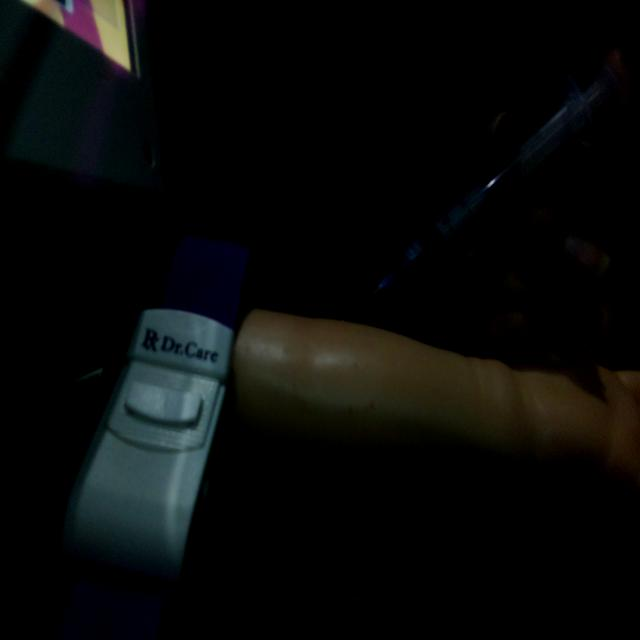30 degrees: (340, 58, 624, 322)
